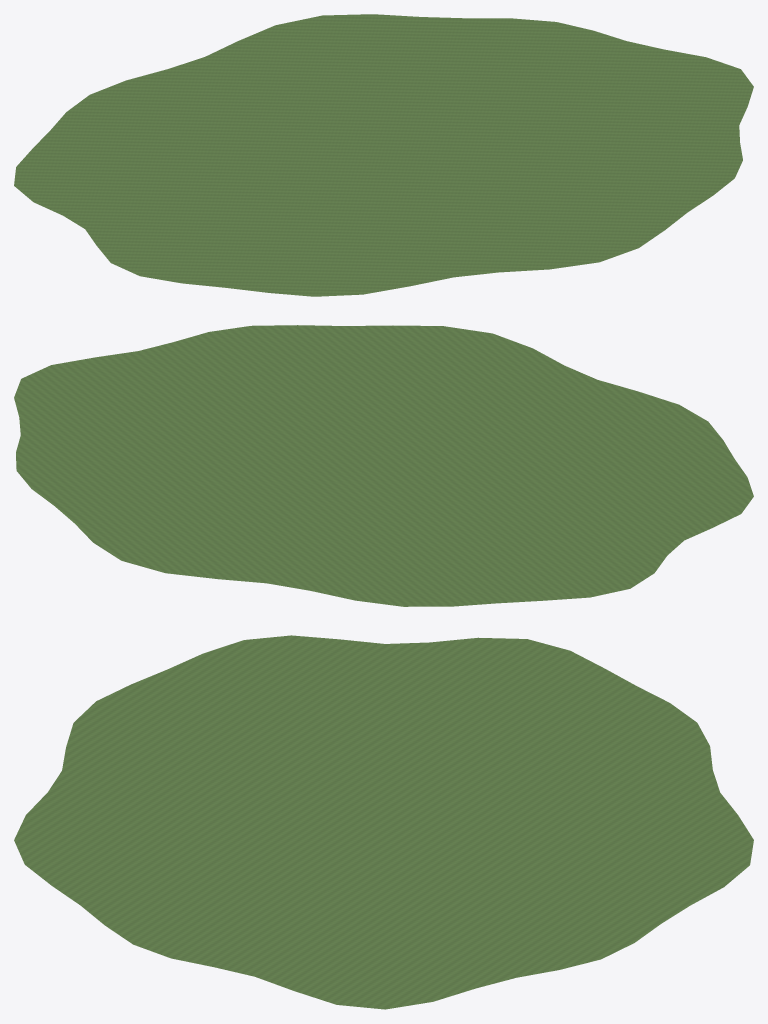
The model's file is Cliff_Upper_Grass.fbx.
3 views of the same model, one above another, from view 1: azimuth 30°, elevation 25°; view 2: azimuth 150°, elevation 25°; view 3: azimuth 270°, elevation 25° (orthographic). The views are drawn at different scales.
Parts seen in each view (by area): view 1: Cliff_Upper_Grass; view 2: Cliff_Upper_Grass; view 3: Cliff_Upper_Grass.
Boxes of the visible parts, box(x1,y1,x2,y2) form: Cliff_Upper_Grass: box(14, 14, 753, 296); Cliff_Upper_Grass: box(14, 325, 753, 606); Cliff_Upper_Grass: box(14, 635, 753, 1009).
Bounding box in the file's own units: 3132 × 2618 × 0.
